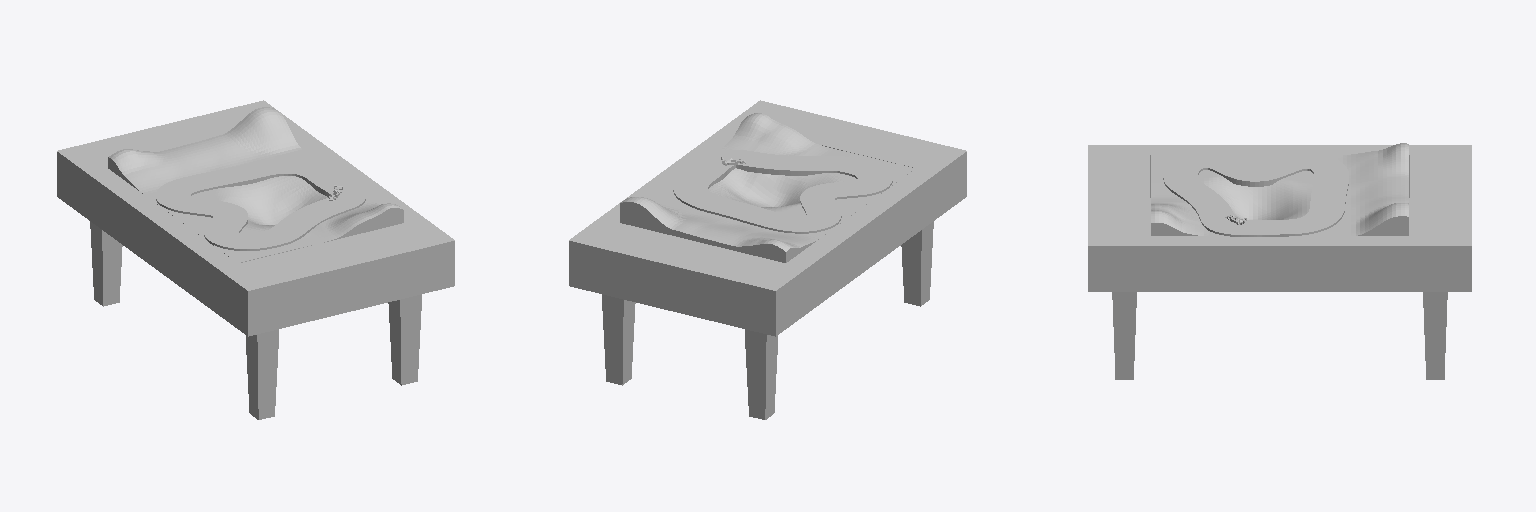
Rendered from NewestTisch32.obj.
The picture shows the model from 3 angles: view 1: azimuth 30°, elevation 25°; view 2: azimuth 150°, elevation 25°; view 3: azimuth 270°, elevation 25°; orthographic projection.
Parts seen in each view (by area): view 1: Tischplatte_wood_table_001, Landschaft_aerial_grass_rock, off, Bein1_wood_table_001, Bein4_wood_table_001.003, Bein3_wood_table_001.002; view 2: Tischplatte_wood_table_001, Landschaft_aerial_grass_rock, off, Bein2_wood_table_001.001, Bein3_wood_table_001.002, Bein4_wood_table_001.003; view 3: Tischplatte_wood_table_001, Landschaft_aerial_grass_rock, off, Bein1_wood_table_001, Bein2_wood_table_001.001.
Part boxes in pixels (bbox=[...]): Tischplatte_wood_table_001: bbox=[57, 100, 454, 336]; Landschaft_aerial_grass_rock: bbox=[108, 107, 403, 262]; off: bbox=[156, 159, 365, 250]; Bein1_wood_table_001: bbox=[388, 294, 421, 385]; Bein4_wood_table_001.003: bbox=[246, 329, 278, 419]; Bein3_wood_table_001.002: bbox=[90, 221, 122, 306]; Tischplatte_wood_table_001: bbox=[569, 100, 966, 336]; Landschaft_aerial_grass_rock: bbox=[620, 113, 915, 262]; off: bbox=[673, 150, 892, 233]; Bein2_wood_table_001.001: bbox=[602, 294, 635, 385]; Bein3_wood_table_001.002: bbox=[745, 329, 777, 419]; Bein4_wood_table_001.003: bbox=[901, 221, 933, 306]; Tischplatte_wood_table_001: bbox=[1088, 145, 1471, 291]; Landschaft_aerial_grass_rock: bbox=[1151, 143, 1408, 235]; off: bbox=[1163, 153, 1348, 236]; Bein1_wood_table_001: bbox=[1112, 292, 1136, 379]; Bein2_wood_table_001.001: bbox=[1423, 292, 1447, 379].
Size of the model in its own units: 5 by 3.91 by 8.